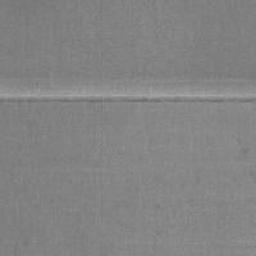Welding line: (0, 96, 256, 103)
